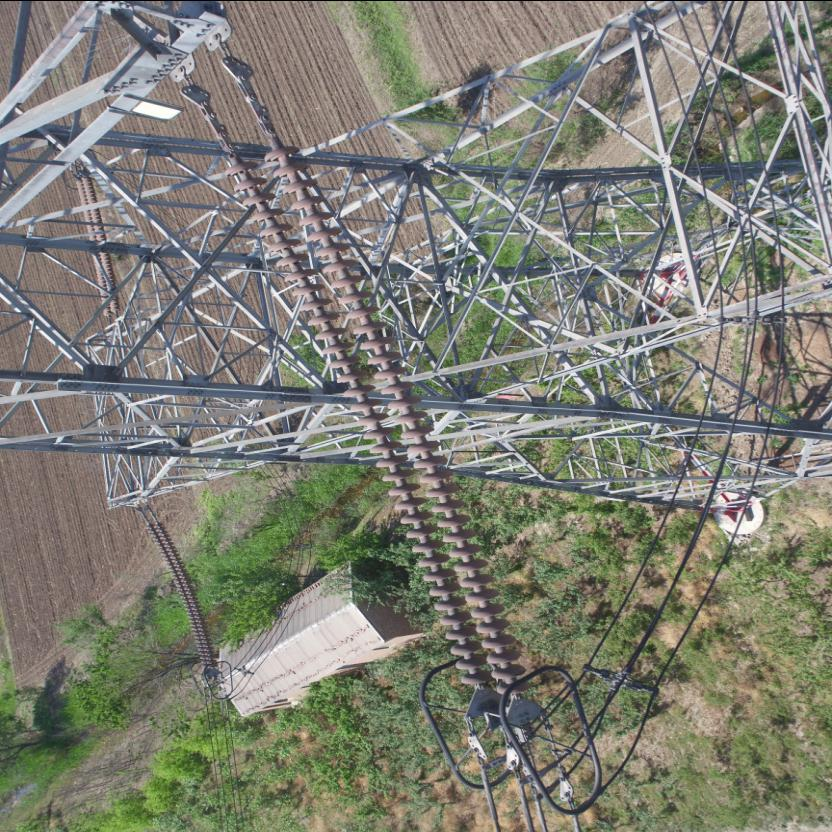insulator: (221, 113, 534, 708), (136, 510, 215, 672)
